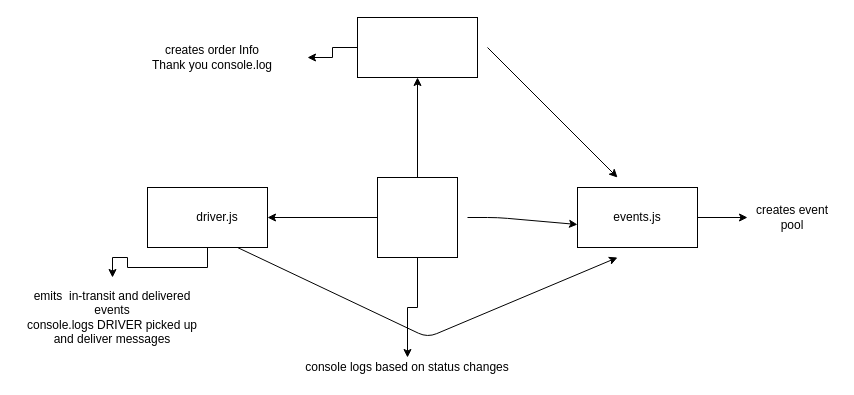
Image size: 854x395. Some labels were removed from this diagram. The shapes that lost their labels are listed below. From the top down, each one's box as (x1, y1, x2, y2) in pixels, then its label:
(356, 16, 478, 78): vendor.js
(376, 176, 458, 258): caps.js
